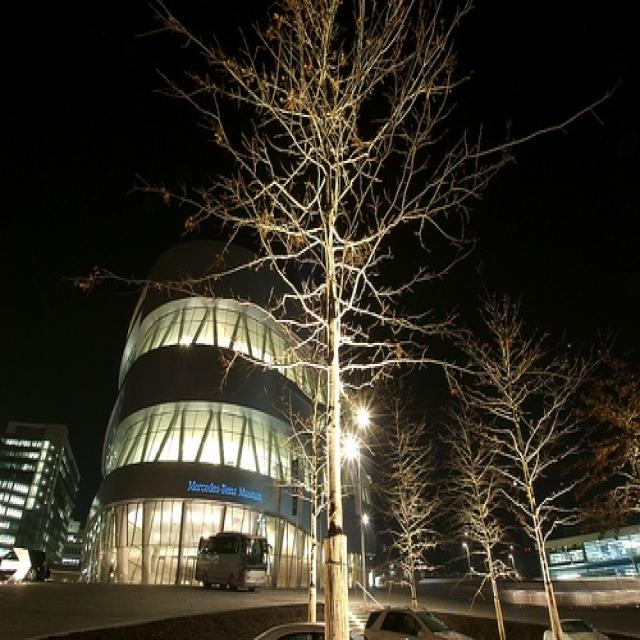bus: (194, 529, 268, 594)
